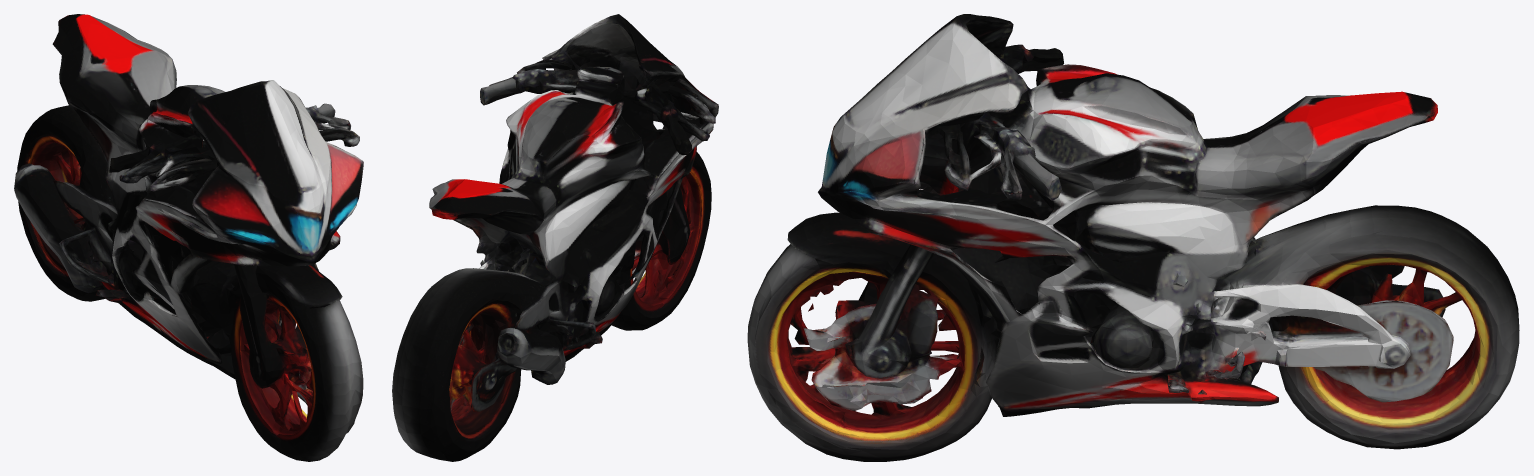
File: Bike3.glb
3 renders of one model, left to right at view 1: azimuth 30°, elevation 25°; view 2: azimuth 150°, elevation 25°; view 3: azimuth 270°, elevation 25°, orthographic. The views are drawn at different scales.
Visible parts, largest first — view 1: Model N0-07_0; view 2: Model N0-07_0; view 3: Model N0-07_0.
Boxes of the visible parts, x1,y1,x2,y2 form: Model N0-07_0: [14, 14, 363, 461]; Model N0-07_0: [392, 14, 718, 461]; Model N0-07_0: [747, 14, 1519, 461].
Size of the model in its own units: 1.1 by 1.6 by 2.53.
Materials: 1 (1 with a texture image).
